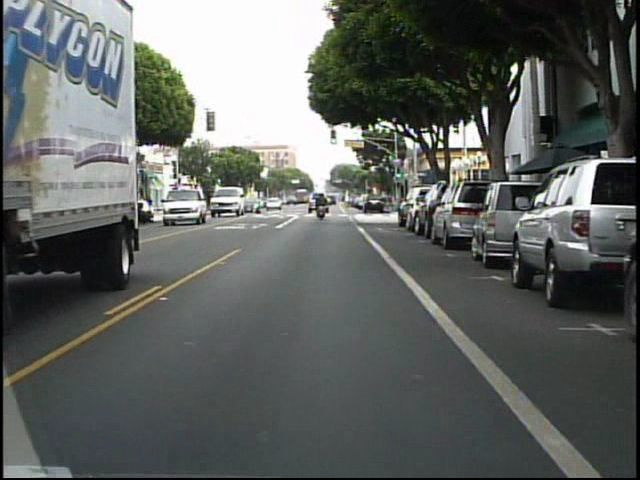person: (315, 191, 330, 221)
